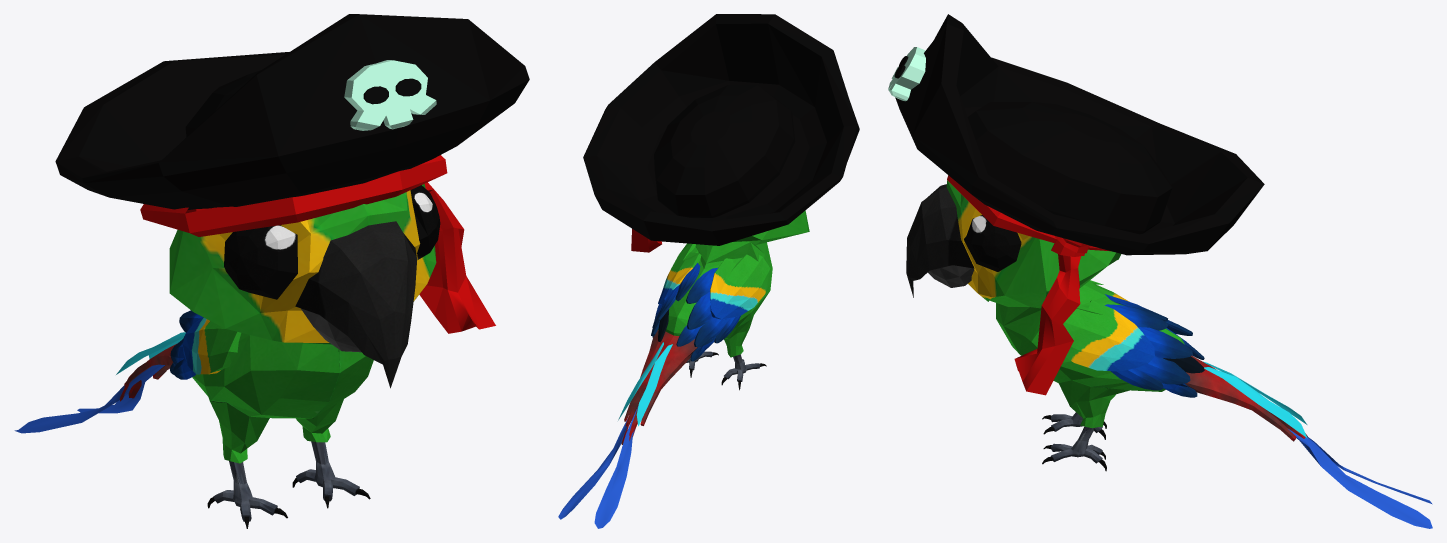
Rendered from lorito.fbx.
3 renders of one model, left to right at view 1: azimuth 30°, elevation 25°; view 2: azimuth 150°, elevation 25°; view 3: azimuth 270°, elevation 25°, orthographic. The views are drawn at different scales.
Visible parts, largest first — view 1: loro; view 2: loro; view 3: loro.
Part boxes in pixels (left/top/right/bottom): loro: left=14, top=14, right=529, bottom=528; loro: left=558, top=14, right=859, bottom=528; loro: left=888, top=14, right=1432, bottom=528.
Size of the model in its own units: 1.05 by 1.56 by 1.58.
